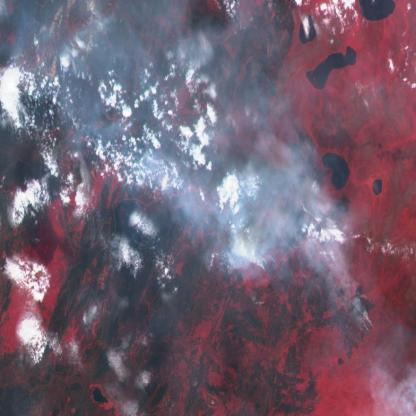fire: (251, 238, 380, 356)
